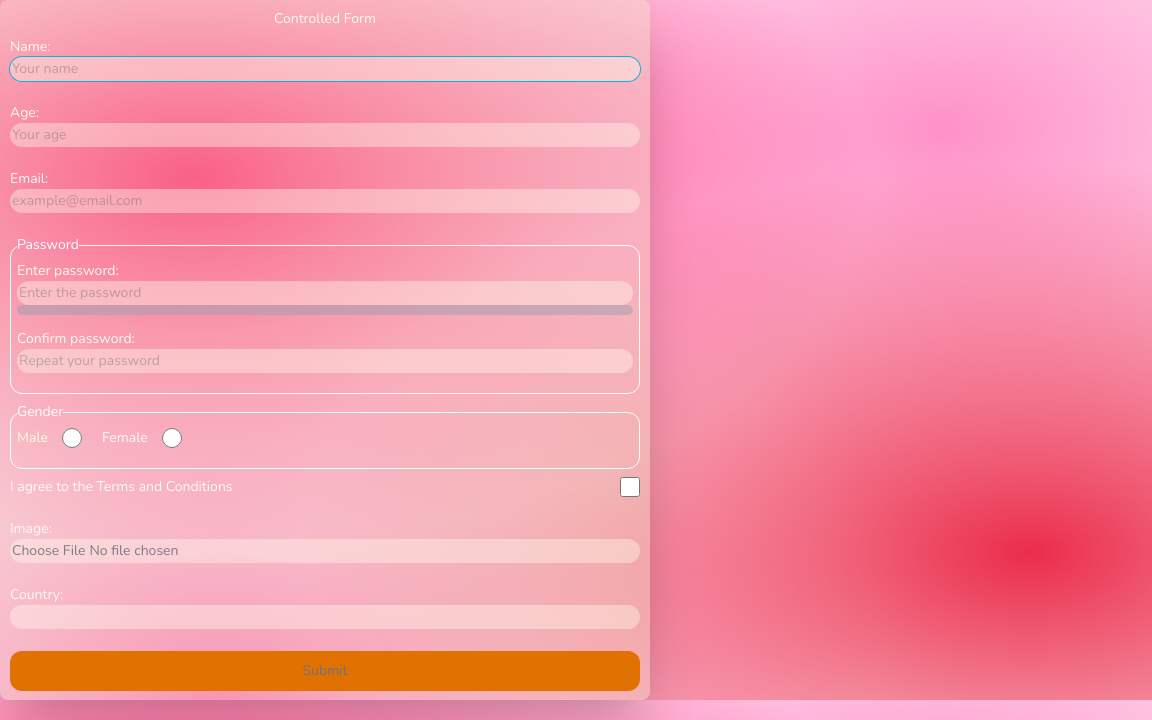
Test: Controlled form tests › should validate terms and conditions field
Click the checkbox labelled "I agree to the Terms and Conditions". click: [630, 487]
box: [620,477,640,497]
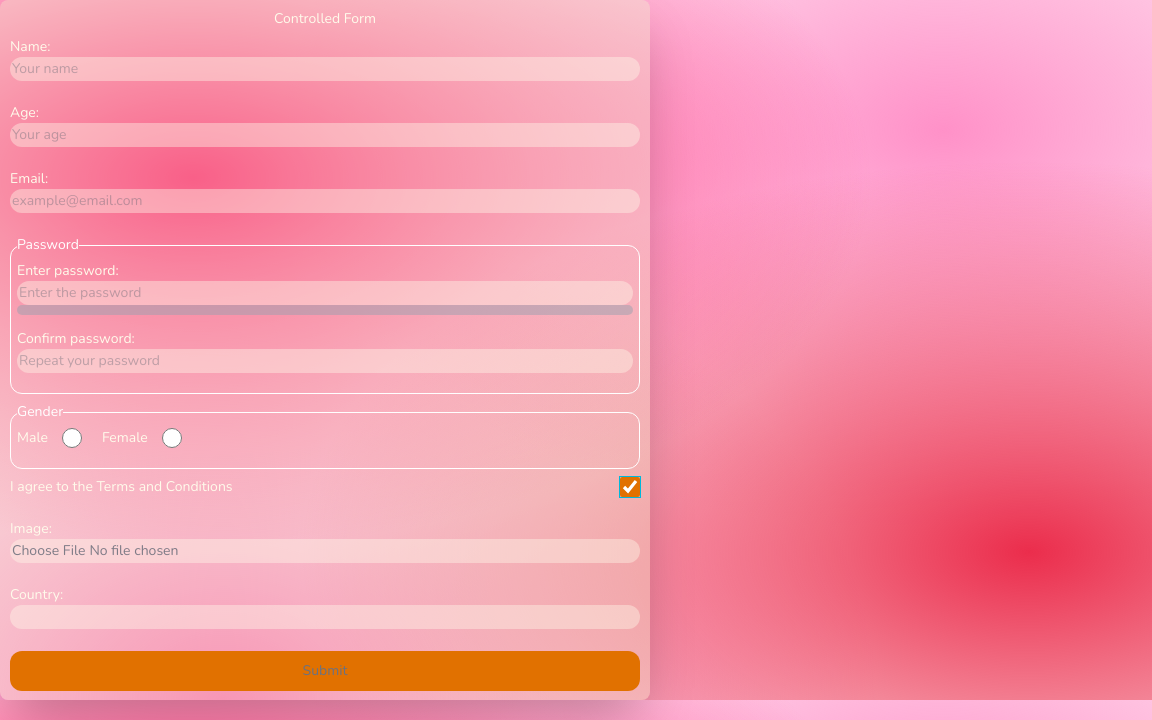
Now the checkbox labelled "I agree to the Terms and Conditions" is checked
Click the checkbox labelled "I agree to the Terms and Conditions". click: [630, 487]
box: [620,477,640,497]
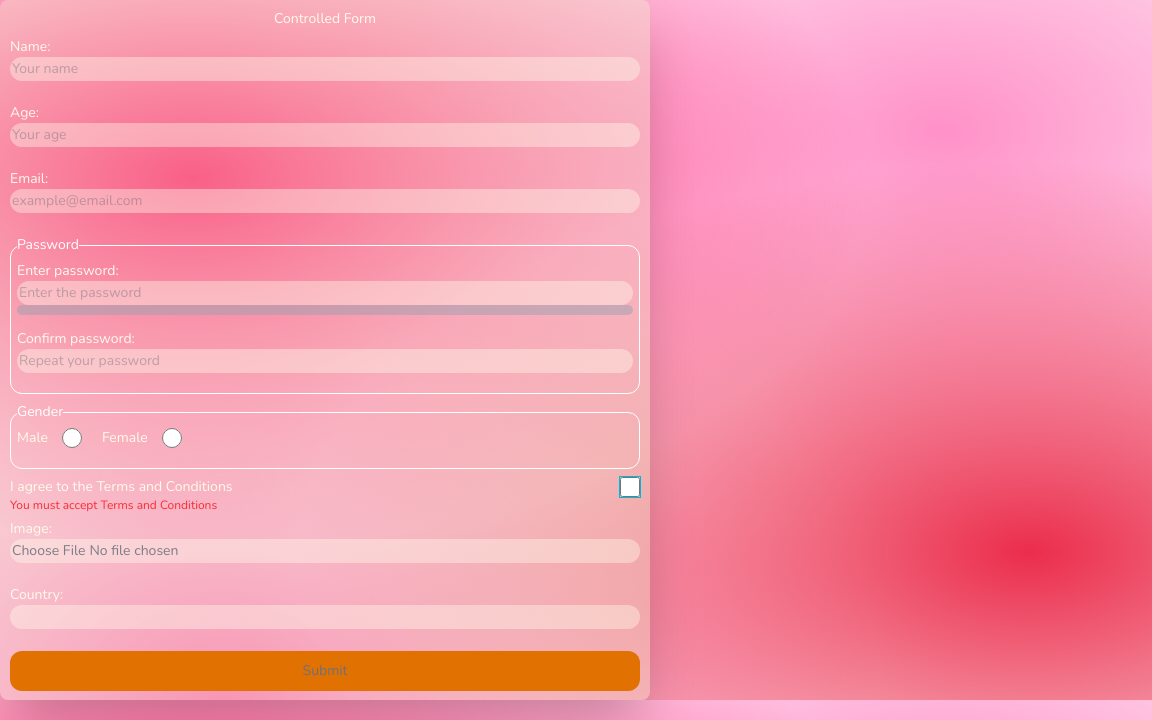
Now the checkbox labelled "I agree to the Terms and Conditions" is not checked, box [620,477,640,497]
Now the text "You must accept Terms and Conditions" is shown, box [10,497,217,513]
